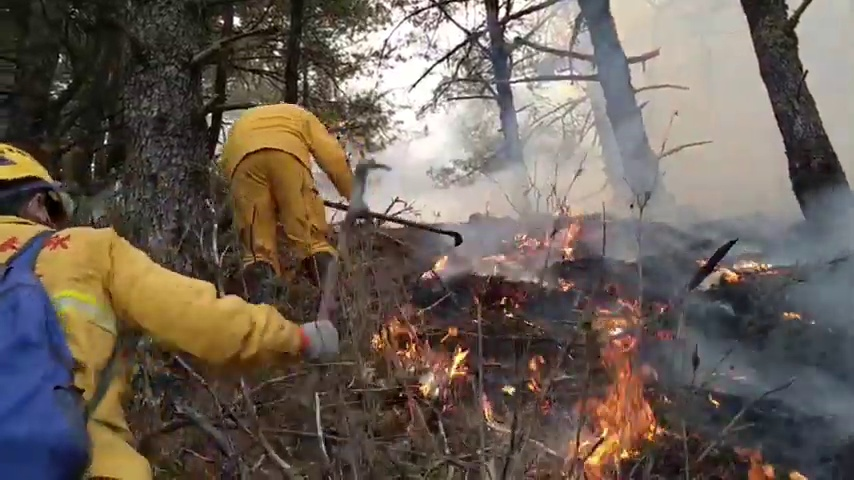fire: (597, 361, 652, 447), (563, 222, 579, 257), (738, 258, 772, 269), (450, 346, 468, 366), (434, 255, 447, 267)
